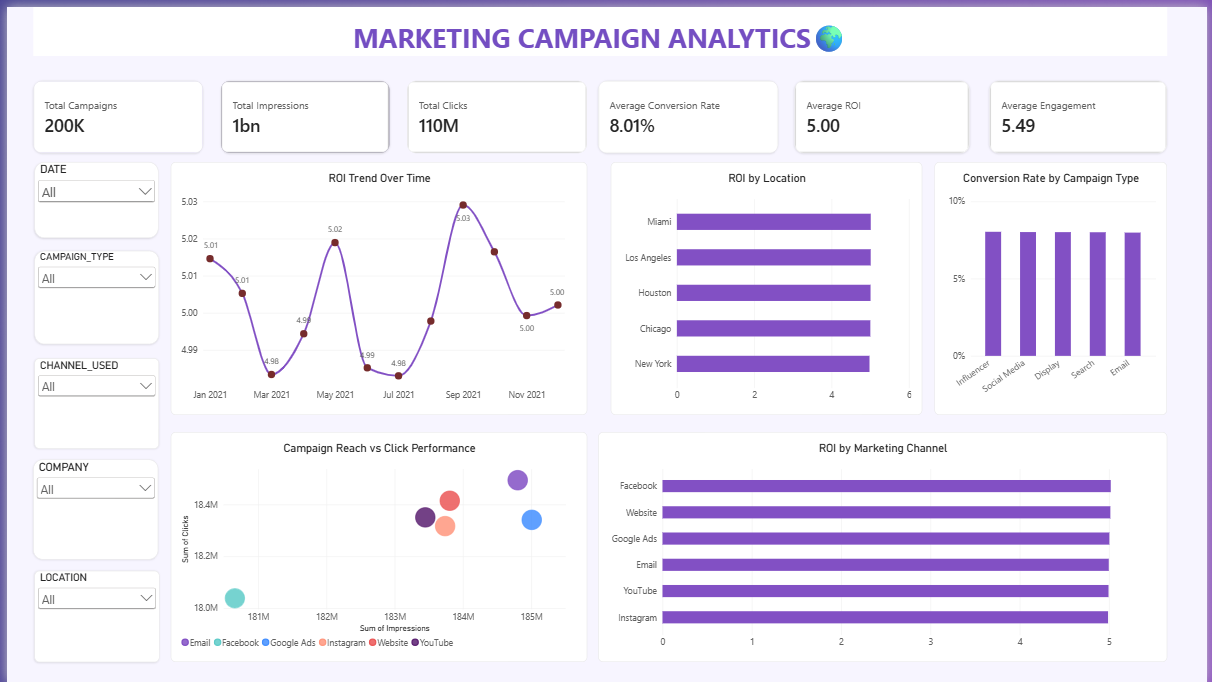

The page's visual inventory and layout, read from the dashboard file:
{"tool":"powerbi","page":{"name":"Executive Marketing Overview","canvas":[1920,1080],"ordinal":0},"visuals":[{"type":"textbox","box":[42,0,1814,78],"z":0},{"type":"cardVisual","fields":{"Data":["marketing_campaign_dataset.Total Campaigns"]},"box":[42,118,272,116],"z":1},{"type":"cardVisual","fields":{"Data":["marketing_campaign_dataset.Total Impressions"]},"box":[342,118,270,116],"z":2},{"type":"cardVisual","fields":{"Data":["marketing_campaign_dataset.Total Clicks"]},"box":[640,118,288,116],"z":3},{"type":"cardVisual","fields":{"Data":["marketing_campaign_dataset.Average Conversion Rate"]},"box":[946,118,288,116],"z":4},{"type":"cardVisual","fields":{"Data":["marketing_campaign_dataset.Average ROI"]},"box":[1260,118,280,116],"z":5},{"type":"cardVisual","fields":{"Data":["marketing_campaign_dataset.Average Engagement"]},"box":[1572,118,284,116],"z":6},{"type":"lineChart","title":"ROI Trend Over Time","fields":{"Category":["marketing_campaign_dataset.Date.Variation.Date Hierarchy.Year","marketing_campaign_dataset.Date.Variation.Date Hierarchy.Month"],"Y":["marketing_campaign_dataset.Average ROI"]},"box":[261.7,248.3,666.7,405],"z":7},{"type":"clusteredBarChart","title":"ROI by Marketing Channel","fields":{"Category":["marketing_campaign_dataset.Channel_Used"],"Y":["marketing_campaign_dataset.Average ROI"]},"box":[945,680,910,368.3],"z":8},{"type":"clusteredColumnChart","title":"Conversion Rate by Campaign Type","fields":{"Category":["marketing_campaign_dataset.Campaign_Type"],"Y":["marketing_campaign_dataset.Average Conversion Rate"]},"box":[1483.3,248.3,371.7,405],"z":9},{"type":"scatterChart","title":"Campaign Reach vs Click Performance","fields":{"Series":["marketing_campaign_dataset.Channel_Used"],"Size":["Sum(marketing_campaign_dataset.Acquisition_Cost)"],"X":["Sum(marketing_campaign_dataset.Impressions)"],"Y":["Sum(marketing_campaign_dataset.Clicks)"]},"box":[261.7,680,666.7,368.3],"z":10},{"type":"clusteredBarChart","title":"ROI by Location","fields":{"Category":["marketing_campaign_dataset.Location"],"Y":["marketing_campaign_dataset.Average ROI"]},"box":[965,248.3,498.3,405],"z":11},{"type":"slicer","fields":{"Values":["marketing_campaign_dataset.Date"]},"box":[43.3,248.3,198.3,121.7],"z":12},{"type":"slicer","fields":{"Values":["marketing_campaign_dataset.Campaign_Type"]},"box":[43.3,390,199.1,149.3],"z":13},{"type":"slicer","fields":{"Values":["marketing_campaign_dataset.Channel_Used"]},"box":[43.3,561.7,199.1,145],"z":14},{"type":"slicer","fields":{"Values":["marketing_campaign_dataset.Company"]},"box":[41.7,723.3,200,160],"z":15},{"type":"slicer","fields":{"Values":["marketing_campaign_dataset.Location"]},"box":[43.3,901.7,200,146.7],"z":16}]}

Visuals, with their boxes in screenshot pixels (x1, y1, x2, y2), scaled from the page's 1920x1080 canvas onto the 1212x682 screenshot:
textbox: l=27, t=0, r=1172, b=49
cardVisual - marketing_campaign_dataset.Total Campaigns: l=27, t=75, r=198, b=148
cardVisual - marketing_campaign_dataset.Total Impressions: l=216, t=75, r=386, b=148
cardVisual - marketing_campaign_dataset.Total Clicks: l=404, t=75, r=586, b=148
cardVisual - marketing_campaign_dataset.Average Conversion Rate: l=597, t=75, r=779, b=148
cardVisual - marketing_campaign_dataset.Average ROI: l=795, t=75, r=972, b=148
cardVisual - marketing_campaign_dataset.Average Engagement: l=992, t=75, r=1172, b=148
"ROI Trend Over Time" lineChart: l=165, t=157, r=586, b=413
"ROI by Marketing Channel" clusteredBarChart: l=597, t=429, r=1171, b=662
"Conversion Rate by Campaign Type" clusteredColumnChart: l=936, t=157, r=1171, b=413
"Campaign Reach vs Click Performance" scatterChart: l=165, t=429, r=586, b=662
"ROI by Location" clusteredBarChart: l=609, t=157, r=924, b=413
slicer - marketing_campaign_dataset.Date: l=27, t=157, r=153, b=234
slicer - marketing_campaign_dataset.Campaign_Type: l=27, t=246, r=153, b=341
slicer - marketing_campaign_dataset.Channel_Used: l=27, t=355, r=153, b=446
slicer - marketing_campaign_dataset.Company: l=26, t=457, r=153, b=558
slicer - marketing_campaign_dataset.Location: l=27, t=569, r=154, b=662
